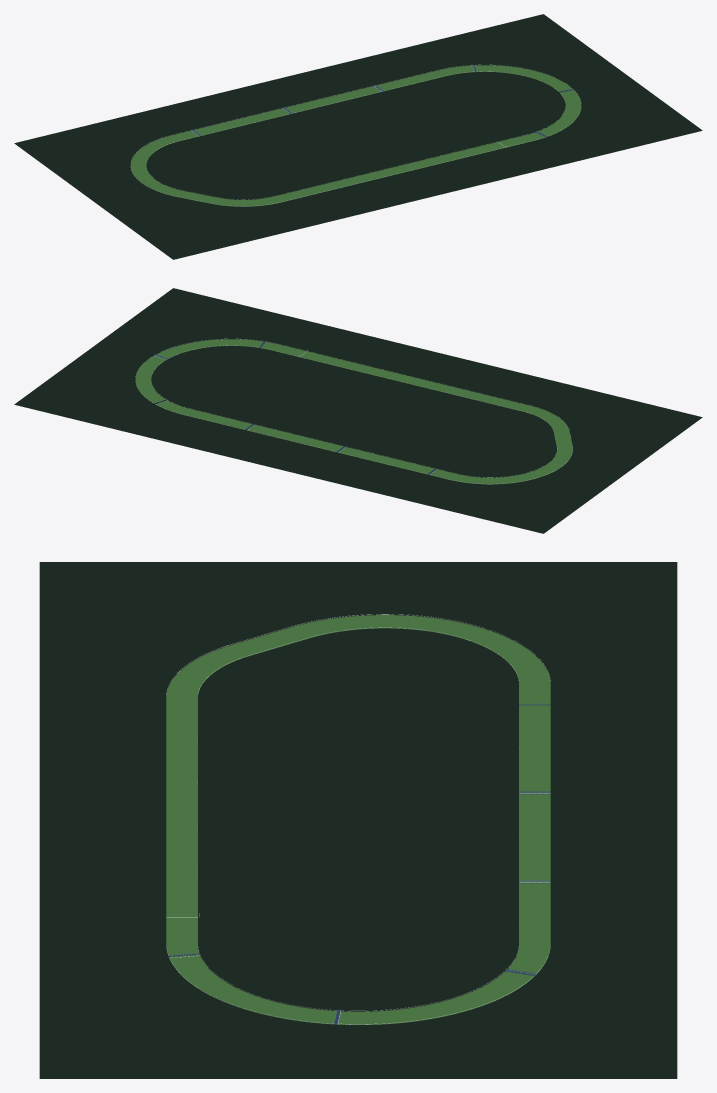
Rendered from sandown-hillside.glb.
The picture shows the model from 3 angles, top to bottom: view 1: azimuth 30°, elevation 25°; view 2: azimuth 150°, elevation 25°; view 3: azimuth 270°, elevation 25°; orthographic projection. The views are drawn at different scales.
Parts seen in each view (by area): view 1: Terrain, Surface; view 2: Terrain, Surface; view 3: Terrain, Surface.
Part boxes in pixels (box(x1,y1,x2,y2)): Terrain: box(14, 14, 702, 259); Surface: box(130, 65, 581, 206); Terrain: box(14, 288, 702, 533); Surface: box(135, 339, 572, 484); Terrain: box(39, 562, 677, 1078); Surface: box(166, 615, 550, 1024).
Bounding box in the file's own units: 1161 × 4.8 × 605.
